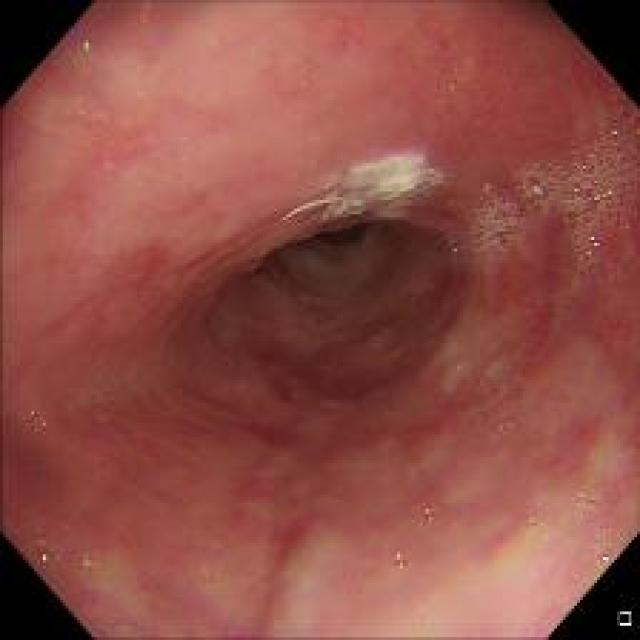bubbles: (458, 120, 638, 278), (34, 535, 102, 580), (192, 565, 226, 601), (416, 495, 449, 531), (595, 526, 619, 568), (24, 402, 55, 432), (385, 542, 414, 574), (66, 391, 108, 410), (515, 511, 548, 535), (579, 485, 605, 511), (490, 415, 512, 442), (439, 74, 458, 105), (370, 325, 395, 348), (72, 95, 88, 118), (445, 360, 460, 379)
color misalignment: (579, 226, 616, 261), (569, 182, 601, 210), (74, 24, 94, 54), (612, 94, 634, 119), (526, 179, 548, 198), (604, 186, 616, 202), (39, 550, 49, 564)
